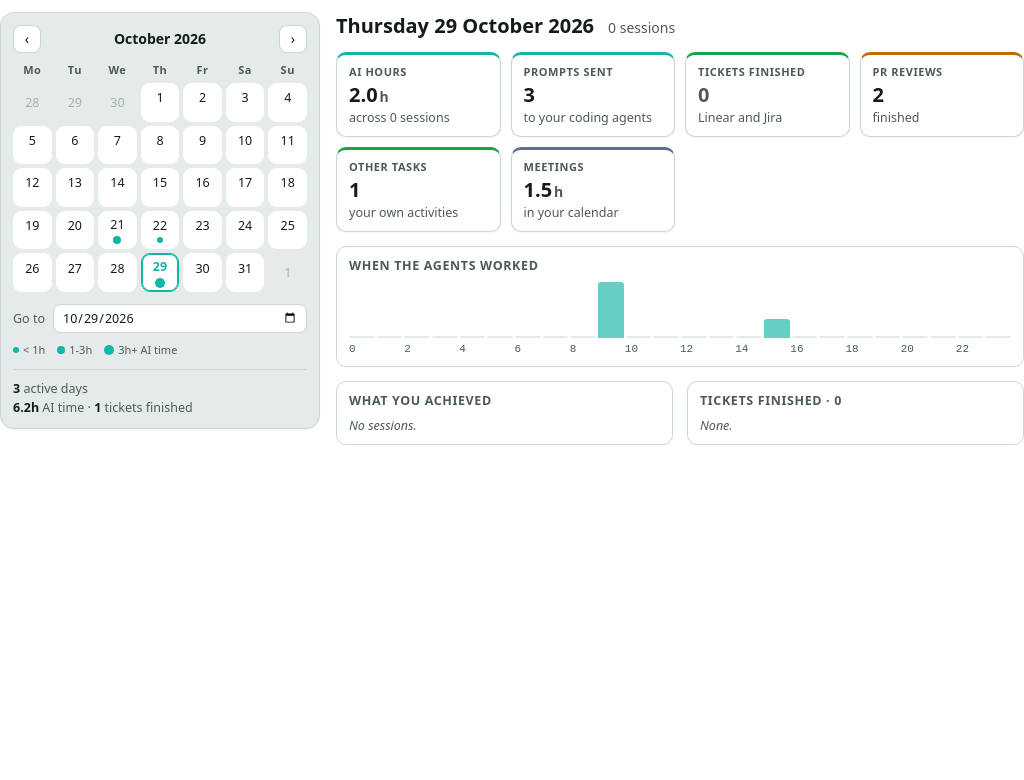
Scenario: History › with several sessions to summarize › asks for one session at a time
Click the button named "21 October" at (117, 230), box x1=98 y1=211 x2=137 y2=249
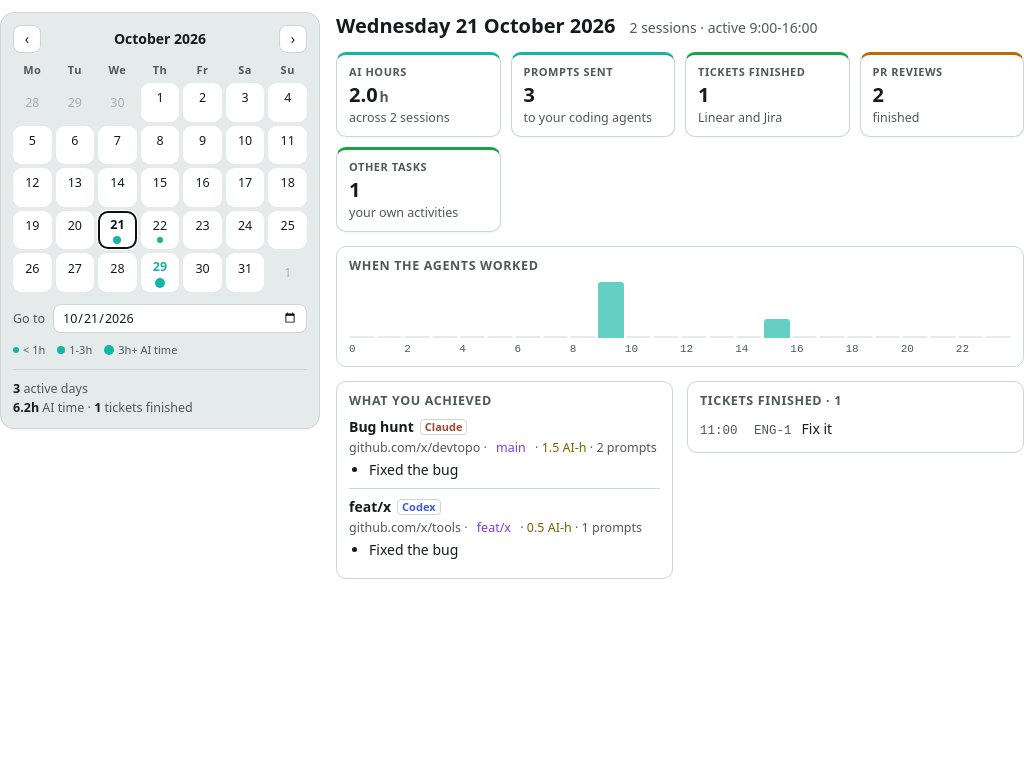
expect the heading "Wednesday 21 October 2026" is shown: met, box x1=336 y1=12 x2=616 y2=40
